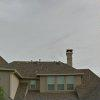Chimney: (57, 40, 71, 73)
